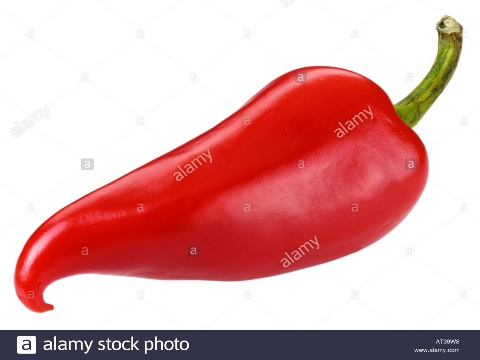Chilli: (8, 17, 467, 321)
